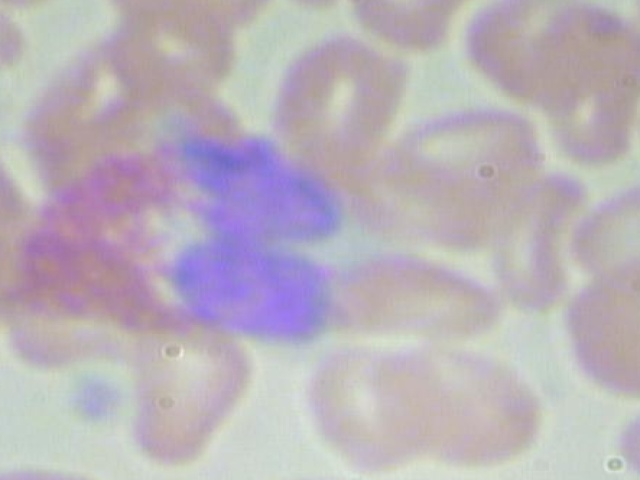Platelets: (64, 372, 123, 427)
RBC: (105, 320, 274, 467), (389, 339, 557, 471), (286, 342, 454, 474), (261, 29, 412, 158), (334, 236, 508, 338), (384, 95, 544, 197), (455, 0, 599, 108), (539, 25, 640, 177), (488, 168, 588, 319), (552, 242, 640, 403), (107, 0, 235, 93), (565, 175, 640, 283), (0, 456, 128, 480), (614, 380, 640, 480), (633, 77, 640, 183), (634, 0, 640, 69), (0, 167, 1, 325)
WBC: (12, 123, 344, 354)
